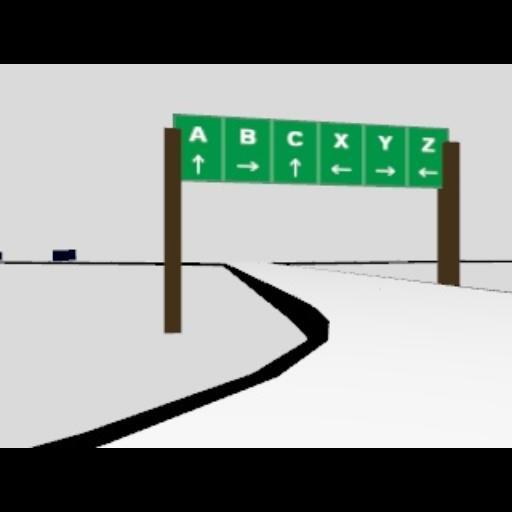A: (188, 125, 206, 143)
B: (238, 126, 256, 144)
C: (286, 130, 304, 146)
Left: (414, 166, 438, 178), (330, 164, 354, 174)
Right: (235, 160, 261, 172), (375, 164, 397, 176)
Straight: (288, 156, 300, 176), (192, 154, 204, 172)
X: (333, 131, 349, 147)
Y: (378, 134, 392, 150)
Z: (421, 136, 435, 152)
